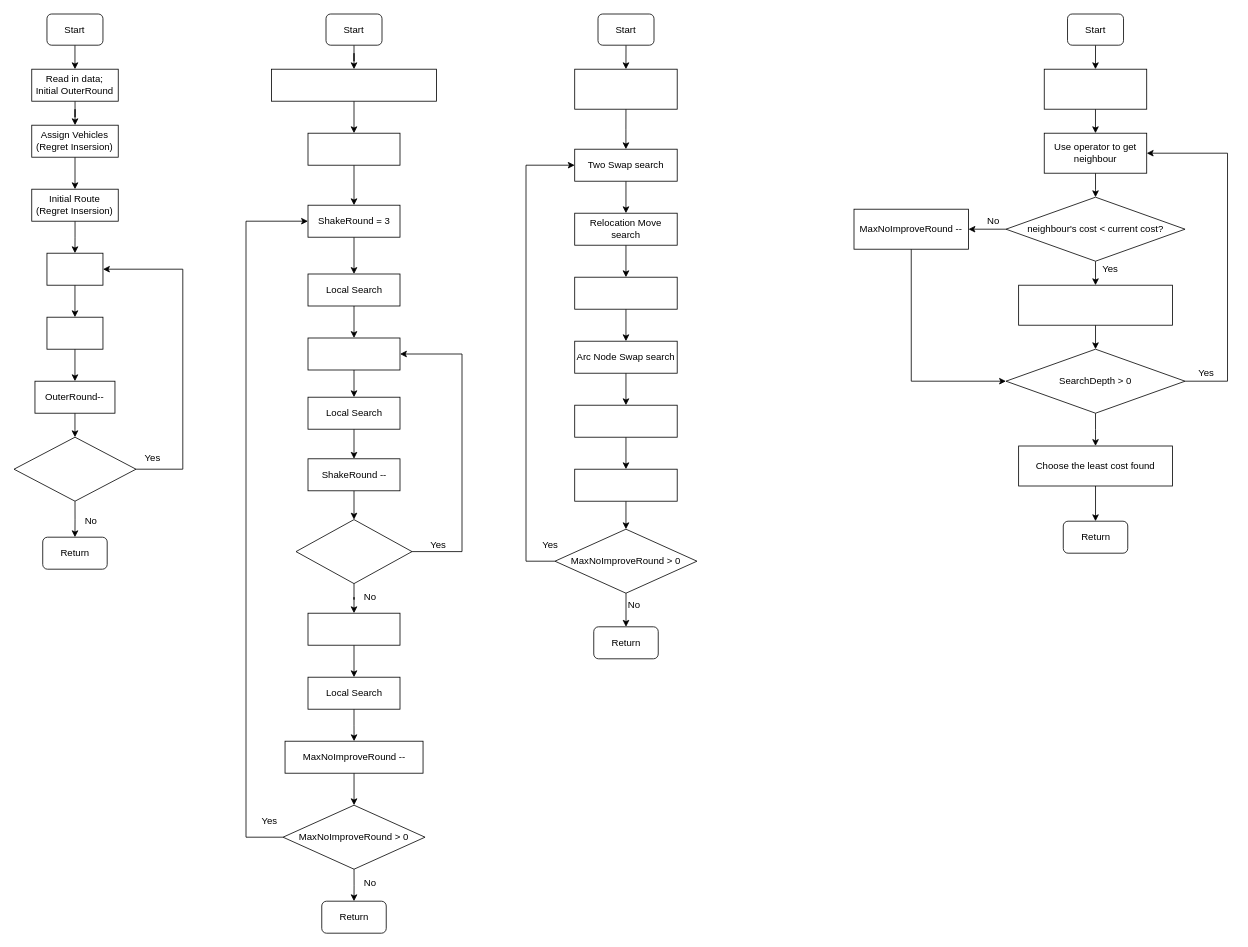
This 1248x947 diagram has some shape labels left out. Each missing label, with the centre of its shape:
Arc Node Move search: the point at 625,420
Depot Change Search: the point at 625,484
Initial MaxNoImproveRound = 10: the point at 353,84
Initial Neighbour Reduction Table: the point at 353,148
Initial SearchDepth (between 6 to 18): the point at 1095,88
OuterRound > 0?: the point at 74,468
Random MaxNoImproveRound (between 6 to 14): the point at 625,88
Random Shake: the point at 353,353
Result: the point at 74,332
SearchDepth-- and revert MaxNoImproveRound: the point at 1095,304
Shake Depot: the point at 353,628
Shake Round > 0: the point at 353,551
Two Opt Move: the point at 625,292
Vns: the point at 74,268
